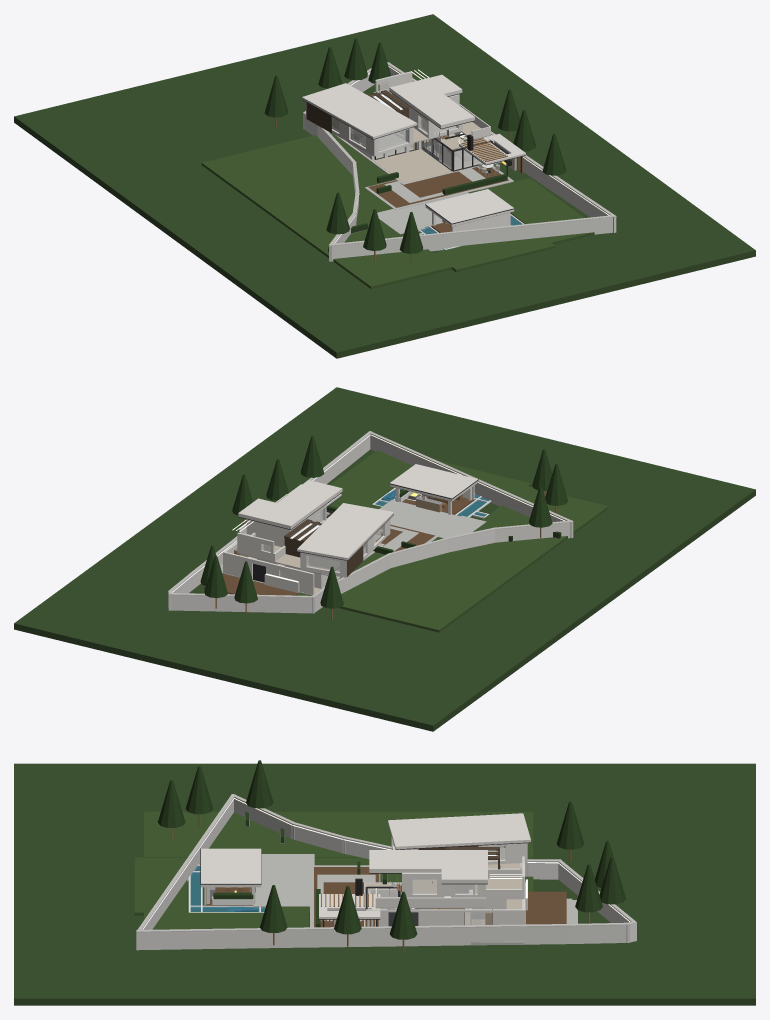
The model's file is modern-villa__Gy6cNV8.glb.
The picture shows the model from 3 angles, top to bottom: view 1: azimuth 30°, elevation 25°; view 2: azimuth 150°, elevation 25°; view 3: azimuth 270°, elevation 25°; orthographic projection. The views are drawn at different scales.
Parts seen in each view (by area): view 1: Site_GroundBase, Site_LawnA, Site_Wall_14, UP_Roof_Rot, Site_LawnC, Site_LawnD, Site_LawnB, GF_FloorTile, UP_Roof_OrthA, Pav_Roof, PoolDeck_Wood, Site_Wall_11 (+12 smaller); view 2: Site_GroundBase, Site_LawnA, UP_Roof_Rot, Site_LawnD, Site_Wall_05, UP_Roof_OrthA, Pav_Roof, Site_Wall_14, Site_LawnC, Site_PathPavilion, Site_Wall_00, Site_LawnB (+13 smaller); view 3: Site_GroundBase, Site_LawnA, UP_Roof_Rot, UP_Roof_OrthA, Pav_Roof, Site_LawnB, Site_LawnD, Site_PathPavilion, Site_Wall_11, Site_Wall_10, Site_Wall_08, Site_Wall_09 (+30 smaller).
Boxes of the visible parts, <box> form: Site_GroundBase: <box>14,14,755,358</box>; Site_LawnA: <box>201,143,451,288</box>; Site_Wall_14: <box>329,217,612,261</box>; UP_Roof_Rot: <box>302,83,417,139</box>; Site_LawnC: <box>283,132,479,212</box>; Site_LawnD: <box>480,178,594,244</box>; Site_LawnB: <box>433,237,555,272</box>; GF_FloorTile: <box>360,133,478,183</box>; UP_Roof_OrthA: <box>389,79,474,128</box>; Pav_Roof: <box>425,189,514,226</box>; PoolDeck_Wood: <box>368,166,508,207</box>; Site_Wall_11: <box>541,168,585,213</box>; Site_GroundBase: <box>14,387,755,731</box>; Site_LawnA: <box>358,486,608,632</box>; UP_Roof_Rot: <box>297,503,393,560</box>; Site_LawnD: <box>329,450,412,507</box>; Site_Wall_05: <box>168,595,314,613</box>; UP_Roof_OrthA: <box>257,480,342,529</box>; Pav_Roof: <box>389,464,478,501</box>; Site_Wall_14: <box>370,434,573,538</box>; Site_LawnC: <box>296,504,443,612</box>; Site_PathPavilion: <box>379,499,459,533</box>; Site_Wall_00: <box>495,522,572,542</box>; Site_LawnB: <box>437,460,531,495</box>; Site_GroundBase: <box>14,763,755,1005</box>; Site_LawnA: <box>144,811,533,857</box>; UP_Roof_Rot: <box>388,813,530,849</box>; UP_Roof_OrthA: <box>369,850,487,872</box>; Pav_Roof: <box>201,848,261,887</box>; Site_LawnB: <box>134,857,187,915</box>; Site_LawnD: <box>144,912,308,929</box>; Site_PathPavilion: <box>253,868,309,908</box>; Site_Wall_11: <box>199,930,292,949</box>; Site_Wall_10: <box>292,928,386,947</box>; Site_Wall_08: <box>477,926,572,945</box>; Site_Wall_09: <box>383,927,477,946</box>.
Bounding box in the file's own units: 60 × 8.39 × 80.
